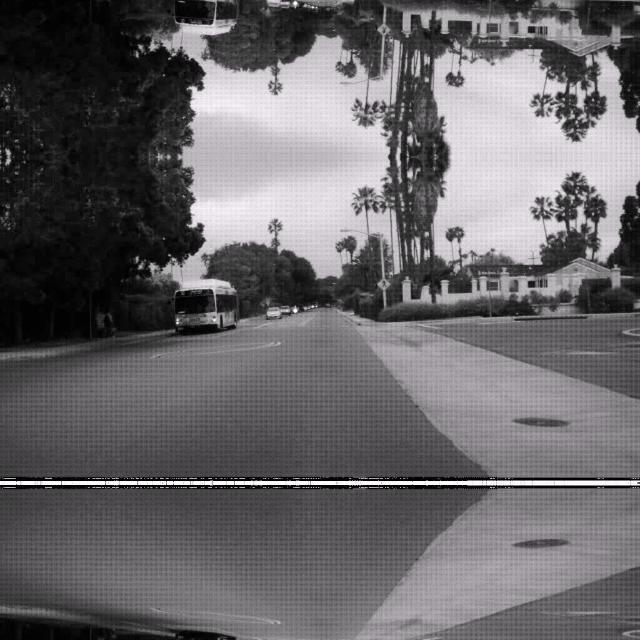pedestrianCrossing: (376, 276, 390, 290), (376, 22, 390, 36)
